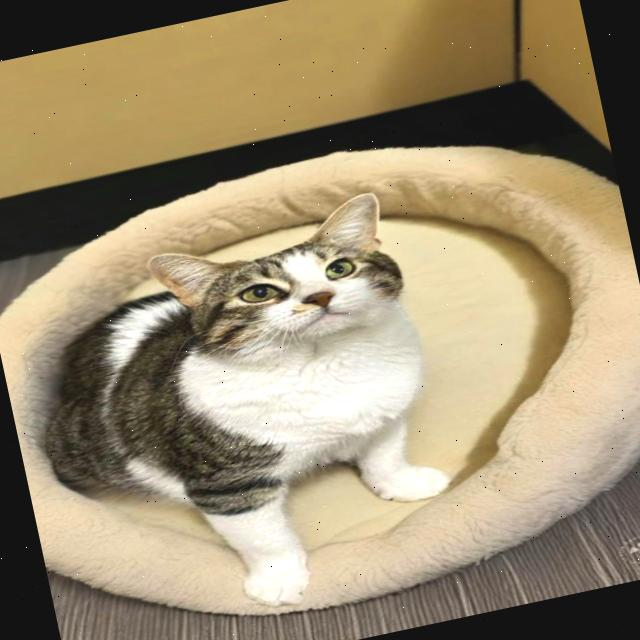american_shorthair_cat: (140, 186, 417, 386)
